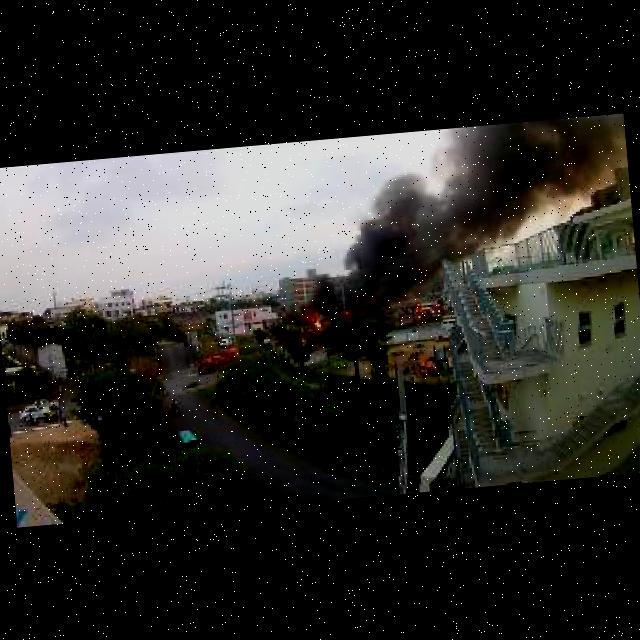Fire: (314, 320, 325, 329)
Smoke: (444, 114, 602, 246), (331, 156, 463, 312)
